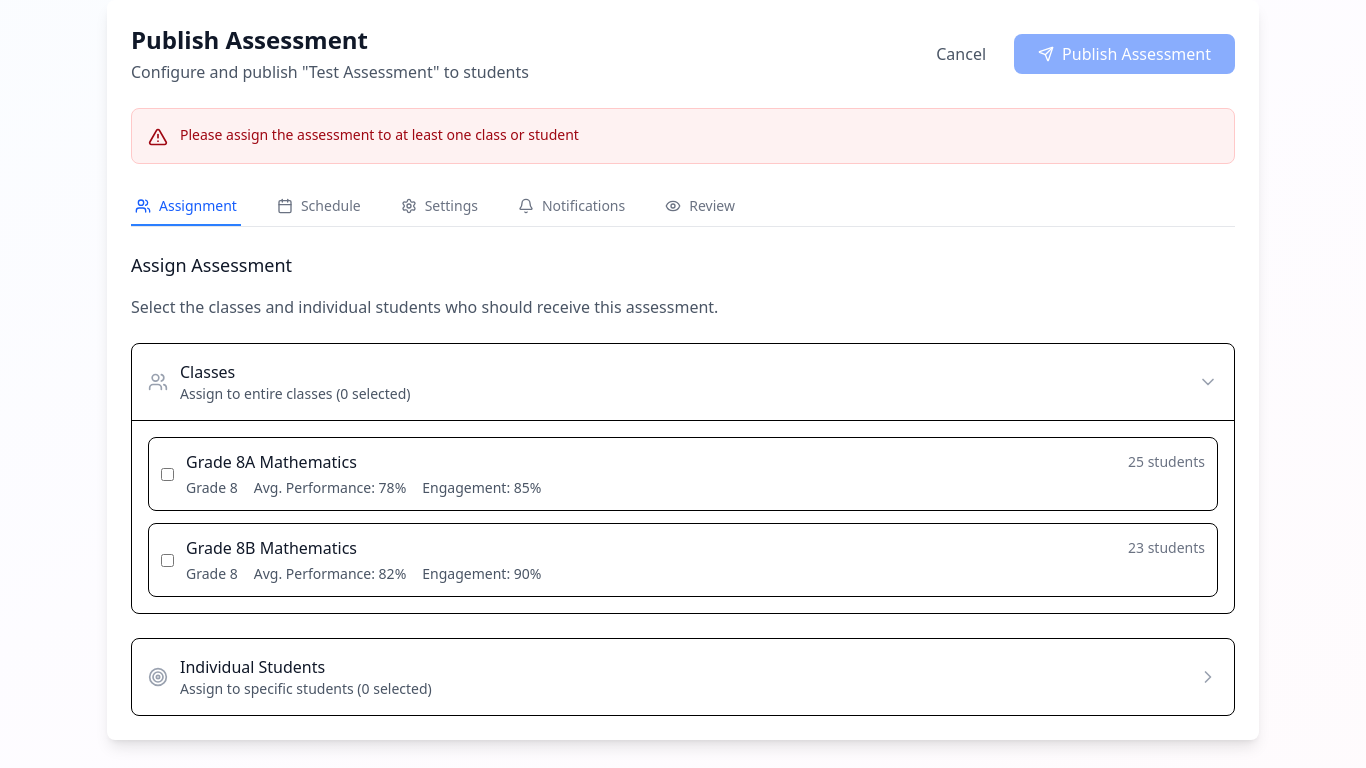
Test: AssessmentPublisher › Schedule Tab › switches to schedule tab and shows date inputs
Step 1. Click the button "Schedule" → [319, 207], box [273,188,365,226]
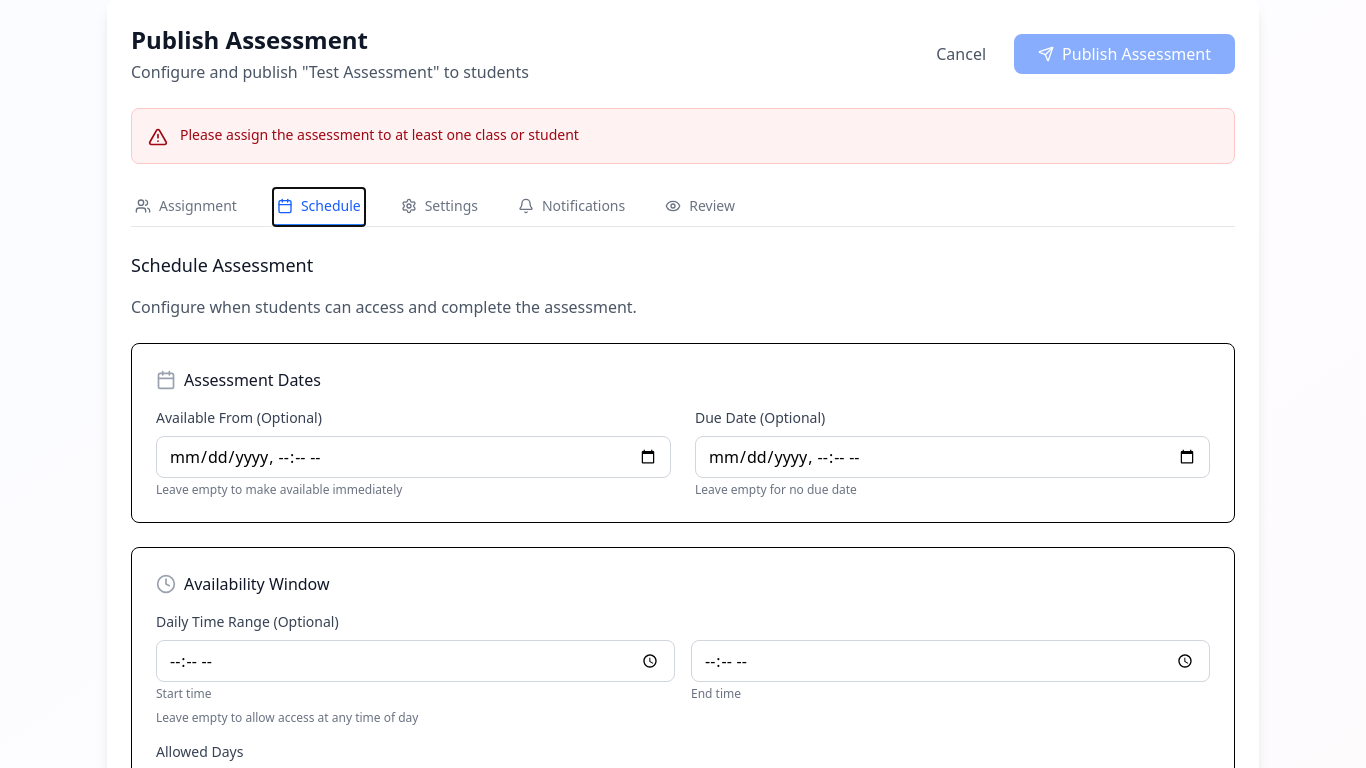
Expected: the heading "Schedule Assessment" is shown, [131,253,313,277]
Expected: the field labelled "Available From (Optional)" is shown, [156,436,671,478]
Expected: the field labelled "Due Date (Optional)" is shown, [695,436,1210,478]
